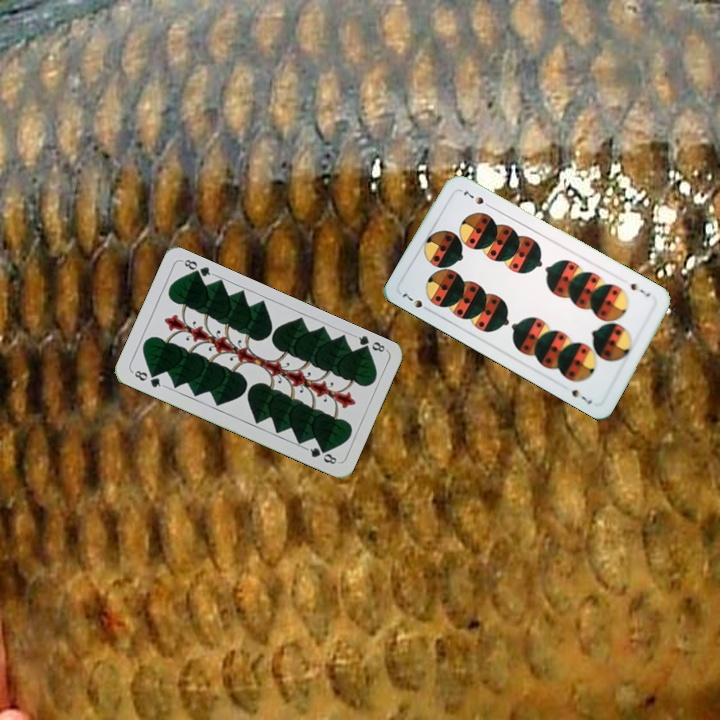G8: (351, 331, 389, 356), (128, 366, 167, 390)
S7: (398, 289, 434, 315), (626, 279, 653, 299)
